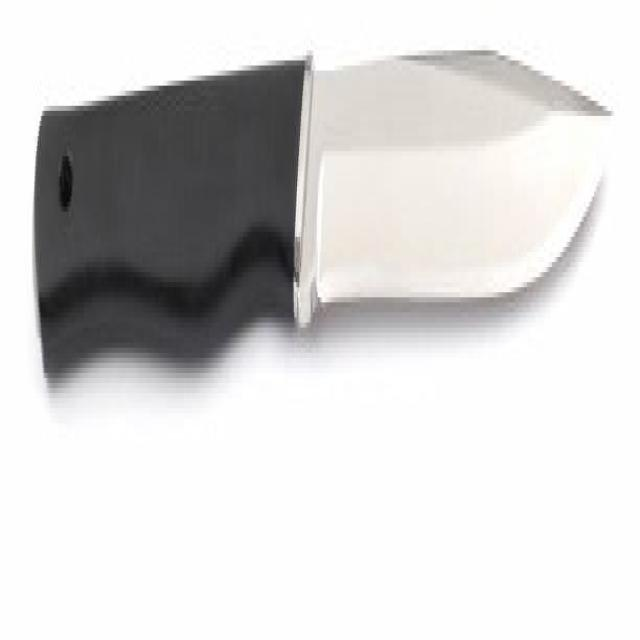knife: (32, 13, 618, 404)
